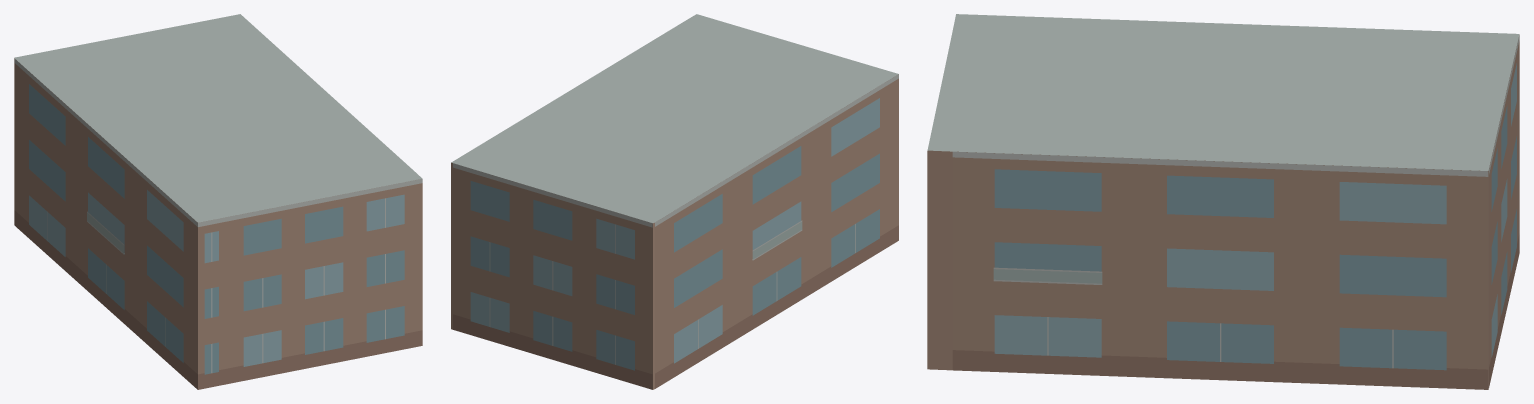
File: survey-upis-32624994.glb
3 renders of one model, left to right at view 1: azimuth 30°, elevation 25°; view 2: azimuth 150°, elevation 25°; view 3: azimuth 270°, elevation 25°, orthographic. The views are drawn at different scales.
Visible parts, largest first — view 1: survey-upis-32624994.tmp; view 2: survey-upis-32624994.tmp; view 3: survey-upis-32624994.tmp.
Part boxes in pixels (x1,y1,x2,y2): survey-upis-32624994.tmp: (14,14,422,389); survey-upis-32624994.tmp: (451,14,898,389); survey-upis-32624994.tmp: (927,14,1519,389).
Size of the model in its own units: 14.1 by 9.15 by 22.45.
